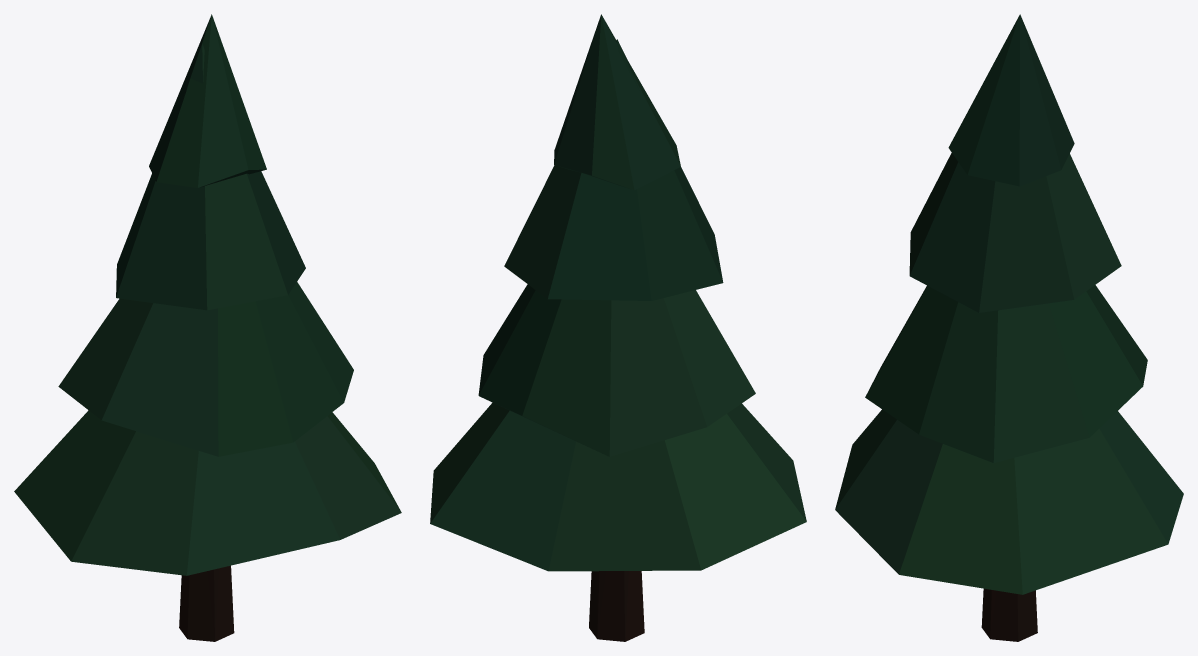
The model's file is Pine3.glb.
3 views of the same model, side by side, from view 1: azimuth 30°, elevation 25°; view 2: azimuth 150°, elevation 25°; view 3: azimuth 270°, elevation 25° (orthographic).
Visible parts, largest first — view 1: Pine3; view 2: Pine3; view 3: Pine3.
Part boxes in pixels (<box>): Pine3: <box>14,14,401,641</box>; Pine3: <box>430,14,806,641</box>; Pine3: <box>835,14,1183,641</box>.
Bounding box in the file's own units: 9.22 × 16 × 8.14.
